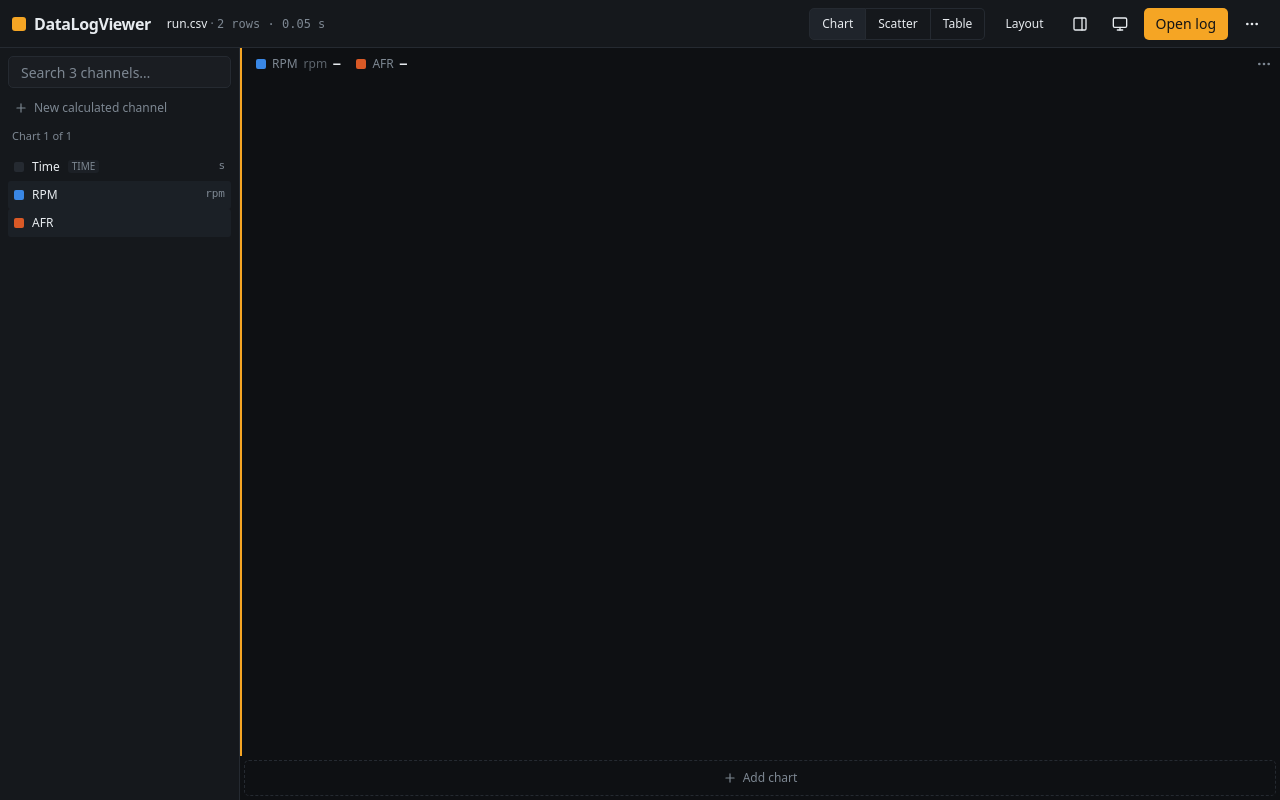
Test: the Table toggle swaps the charts for the table
Click the radio button labelled "Table" at (958, 24), box [931, 8, 985, 40]
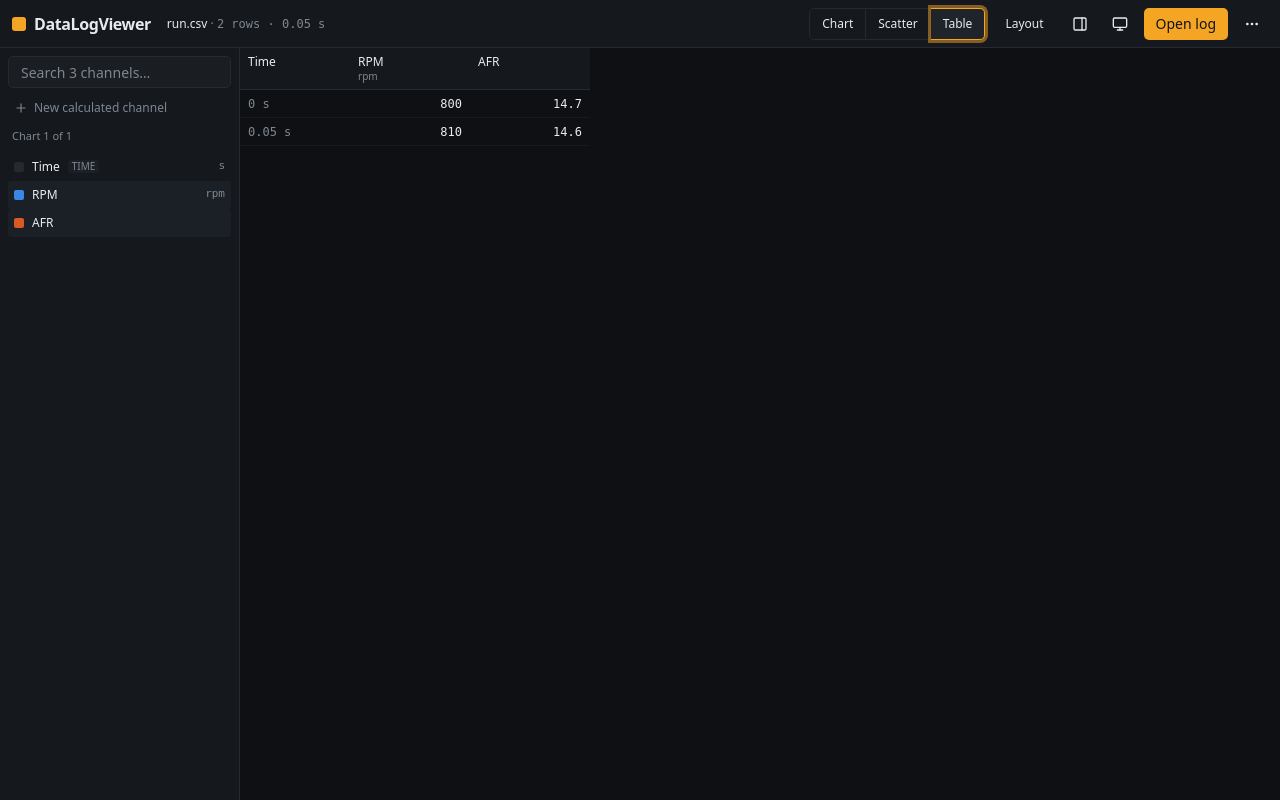
Check: the table is shown
Check: no elements with test id "chart-pane" are shown
